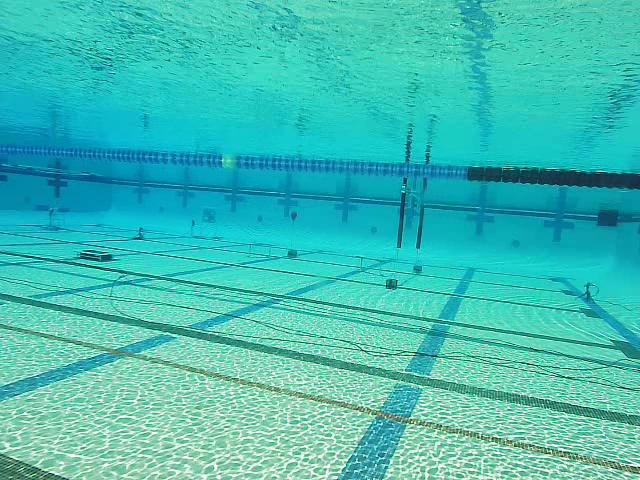dropper: (76, 247, 116, 263)
gate_leg_l: (396, 173, 410, 248)
gate_leg_r: (414, 202, 425, 250)
table: (31, 202, 70, 234)
torpedo: (200, 204, 217, 225)
